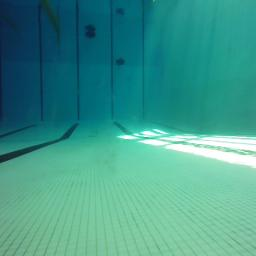Full: (85, 30, 96, 40), (115, 59, 126, 65)
